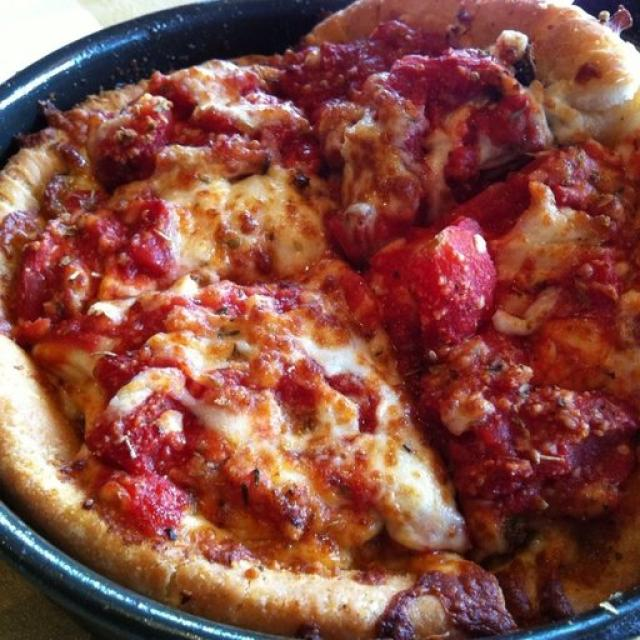Pizza: (0, 0, 640, 640)
Tomato: (411, 66, 538, 162), (417, 222, 495, 346), (85, 203, 175, 277), (108, 385, 186, 464), (106, 468, 180, 537), (14, 240, 62, 312)
